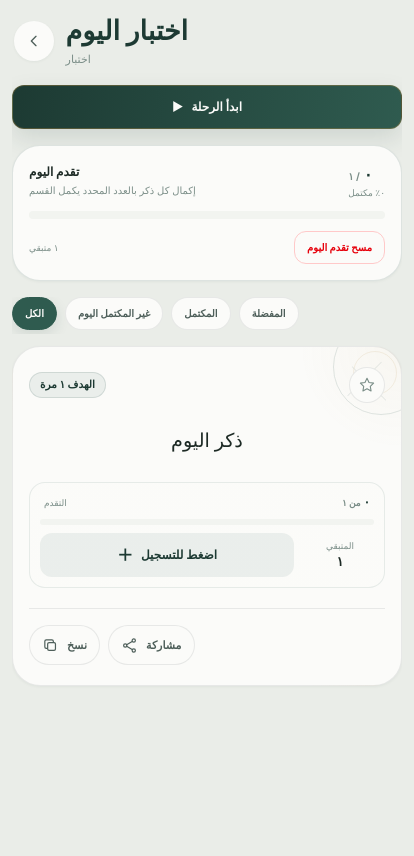
feature views › refreshes category progress when the calendar day changes
Click the button with aria-label "تسجيل مرة من الذكر".
click(167, 555)  # box [40,533,294,577]
Wait 60000 ms
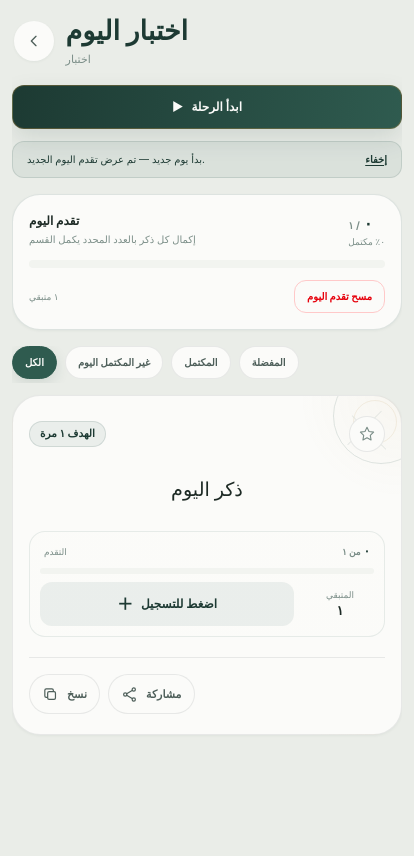
Expected: the text "تم الإكمال" is shown, [141,595,217,613]
Expected: the message shows "بدأ يوم جديد", [27,153,205,165]
